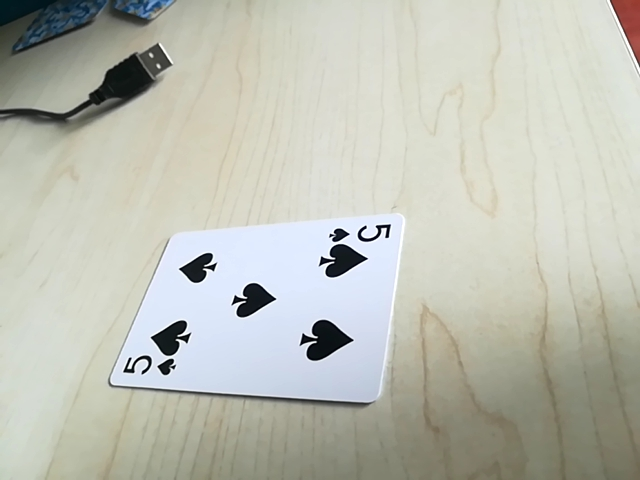ht 5: (110, 349, 185, 385), (324, 219, 395, 248)
